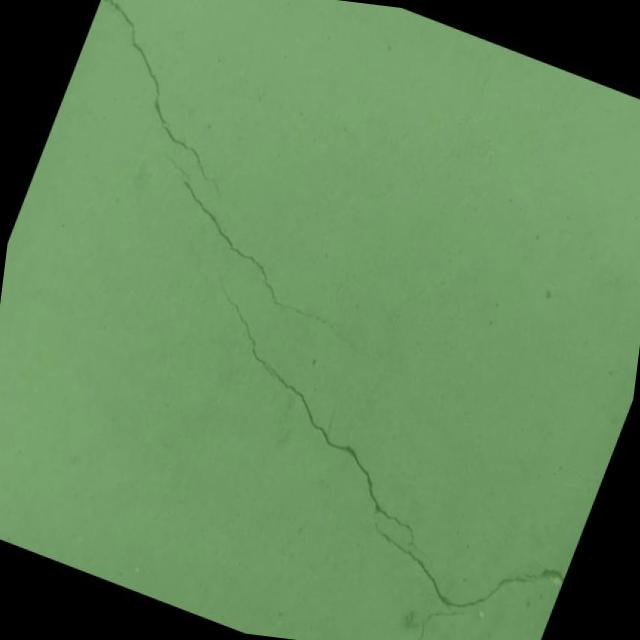crack: (86, 251, 637, 640), (123, 154, 410, 358), (41, 0, 283, 211)
